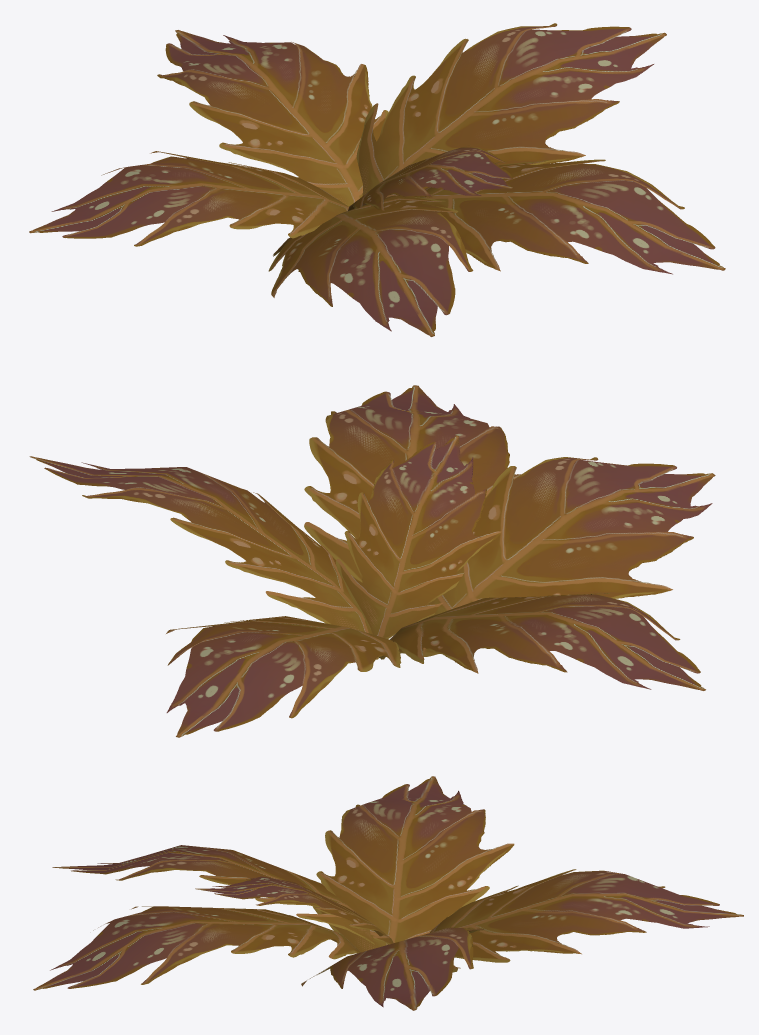
Rendered from Plant3.fbx.
The picture shows the model from 3 angles, top to bottom: view 1: azimuth 30°, elevation 25°; view 2: azimuth 150°, elevation 25°; view 3: azimuth 270°, elevation 25°; orthographic projection. The views are drawn at different scales.
Parts seen in each view (by area): view 1: Plane.003; view 2: Plane.003; view 3: Plane.003.
Boxes of the visible parts, left/top/right/bottom form: Plane.003: left=29, top=23, right=725, bottom=336; Plane.003: left=29, top=385, right=715, bottom=737; Plane.003: left=33, top=776, right=743, bottom=1010.
Size of the model in its own units: 657 by 138 by 705.
